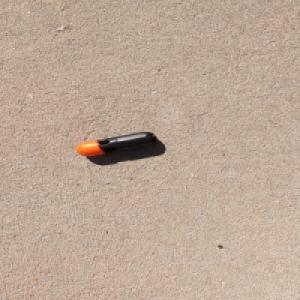PlasticPart: (74, 131, 158, 156)
